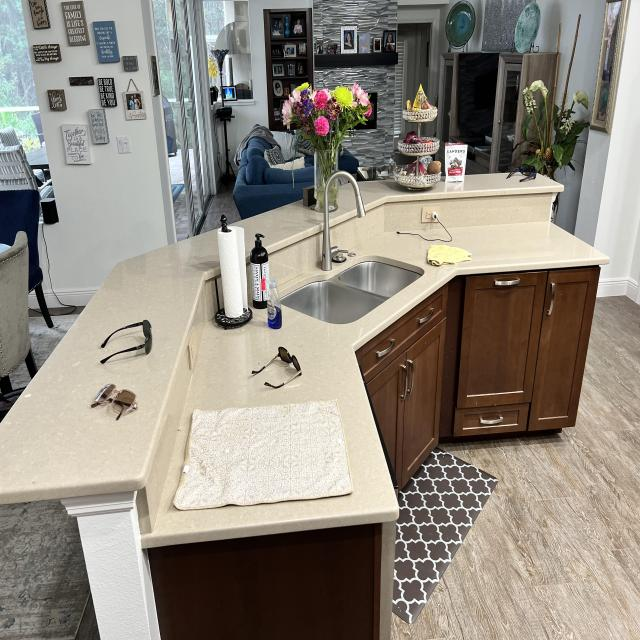Appliance_Sink: (280, 257, 424, 324), (323, 171, 365, 272)
Cabinet_Shaker: (356, 266, 600, 490)
Countertop_Granite: (155, 223, 610, 535), (0, 231, 220, 506), (328, 173, 561, 225), (235, 201, 323, 247)
